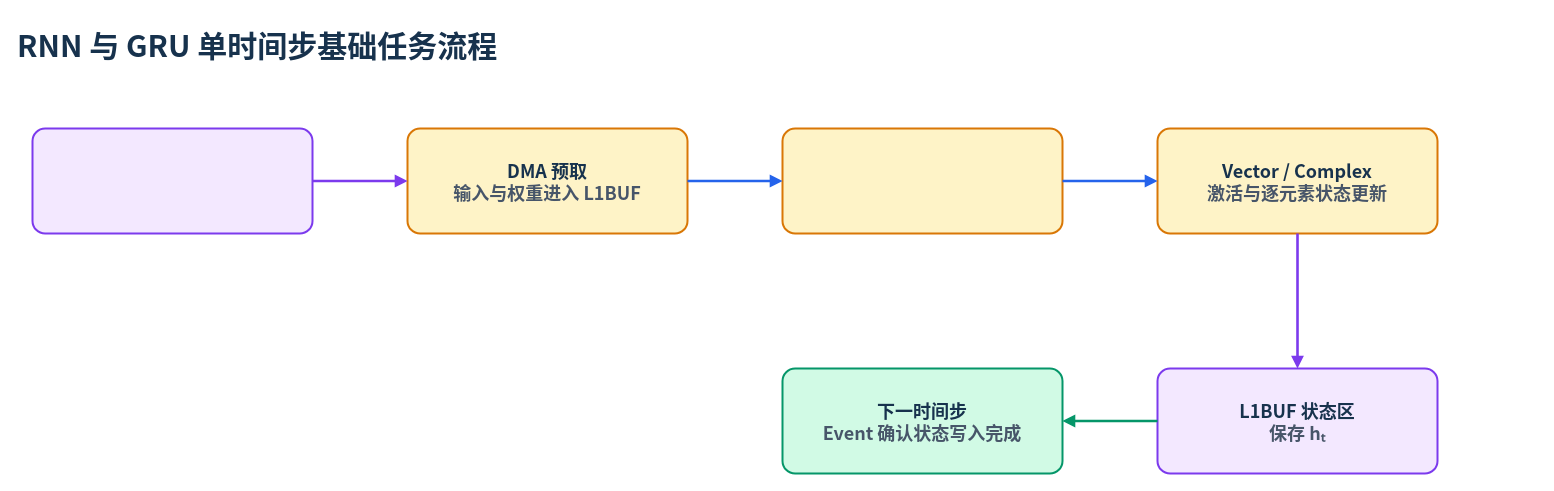
Image size: 1554x491. Some labels were removed from this diagram. Each missing label, with the centre of its shape:
Matrix RNN 仿射项或 GRU 门计算: pixel 922 180
输入与前一状态 xₜ 与 hₜ₋₁: pixel 172 180
